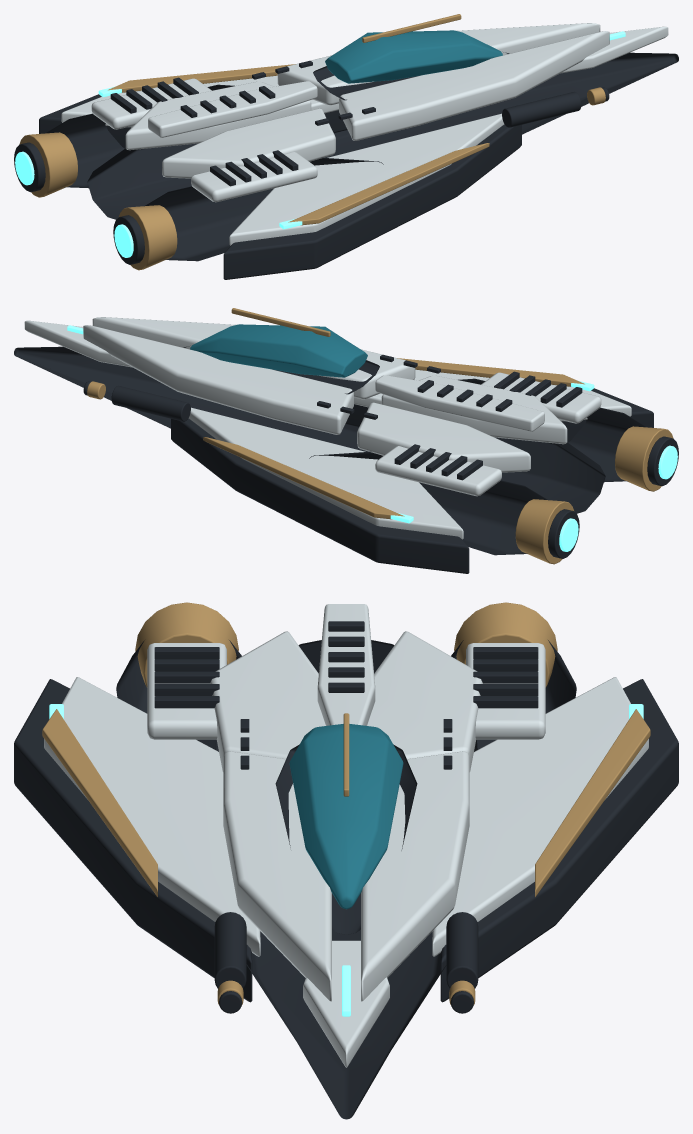
The model's file is interceptor-v2.glb.
3 views of the same model, one above another, from view 1: azimuth 30°, elevation 25°; view 2: azimuth 150°, elevation 25°; view 3: azimuth 270°, elevation 25° (orthographic). The views are drawn at different scales.
Visible parts, largest first — view 1: forward shoulder armour, swept wing subframe, continuous pressure hull, independent wing ceramic, smoked laminated canopy, aft shoulder armour, engine armoured nacelle, forward shoulder armour.001, dorsal spine, aft shoulder armour.001, nacelle ceramic cap, engine armoured nacelle.001 (+15 smaller); view 2: forward shoulder armour.001, swept wing subframe.001, continuous pressure hull, independent wing ceramic.001, smoked laminated canopy, aft shoulder armour.001, engine armoured nacelle.001, forward shoulder armour, dorsal spine, aft shoulder armour, nacelle ceramic cap.001, engine armoured nacelle (+15 smaller); view 3: independent wing ceramic, independent wing ceramic.001, forward shoulder armour.001, forward shoulder armour, smoked laminated canopy, swept wing subframe.001, swept wing subframe, continuous pressure hull, aft shoulder armour.001, aft shoulder armour, nose sensor ceramic, gold leading edge (+21 smaller).
Part boxes in pixels (bbox=[...]): forward shoulder armour: bbox=[339, 31, 609, 140]; swept wing subframe: bbox=[223, 124, 521, 279]; continuous pressure hull: bbox=[87, 52, 678, 219]; independent wing ceramic: bbox=[229, 113, 504, 245]; smoked laminated canopy: bbox=[325, 30, 502, 83]; aft shoulder armour: bbox=[162, 108, 335, 178]; engine armoured nacelle: bbox=[144, 157, 383, 261]; forward shoulder armour.001: bbox=[277, 23, 600, 105]; dorsal spine: bbox=[148, 81, 317, 137]; aft shoulder armour.001: bbox=[125, 81, 311, 150]; nacelle ceramic cap: bbox=[191, 152, 317, 202]; engine armoured nacelle.001: bbox=[45, 84, 234, 188]; forward shoulder armour.001: bbox=[83, 325, 353, 434]; swept wing subframe.001: bbox=[171, 418, 469, 573]; continuous pressure hull: bbox=[14, 346, 605, 513]; independent wing ceramic.001: bbox=[188, 407, 463, 539]; smoked laminated canopy: bbox=[190, 324, 367, 377]; aft shoulder armour.001: bbox=[357, 402, 530, 472]; engine armoured nacelle.001: bbox=[309, 451, 548, 555]; forward shoulder armour: bbox=[92, 317, 415, 399]; dorsal spine: bbox=[375, 375, 544, 431]; aft shoulder armour: bbox=[381, 375, 567, 444]; nacelle ceramic cap.001: bbox=[375, 446, 501, 496]; engine armoured nacelle: bbox=[458, 378, 647, 482]; independent wing ceramic: bbox=[44, 677, 260, 956]; independent wing ceramic.001: bbox=[432, 677, 648, 956]; forward shoulder armour.001: bbox=[361, 751, 469, 1001]; forward shoulder armour: bbox=[223, 751, 331, 1001]; smoked laminated canopy: bbox=[289, 724, 403, 909]; swept wing subframe.001: bbox=[440, 679, 678, 1002]; swept wing subframe: bbox=[14, 679, 252, 1002]; continuous pressure hull: bbox=[215, 640, 477, 1119]; aft shoulder armour.001: bbox=[367, 631, 482, 771]; aft shoulder armour: bbox=[210, 631, 325, 771]; nose sensor ceramic: bbox=[303, 940, 389, 1067]; gold leading edge: bbox=[42, 709, 157, 896].
Bounding box in the file's own units: 155 × 34.6 × 91.8.
